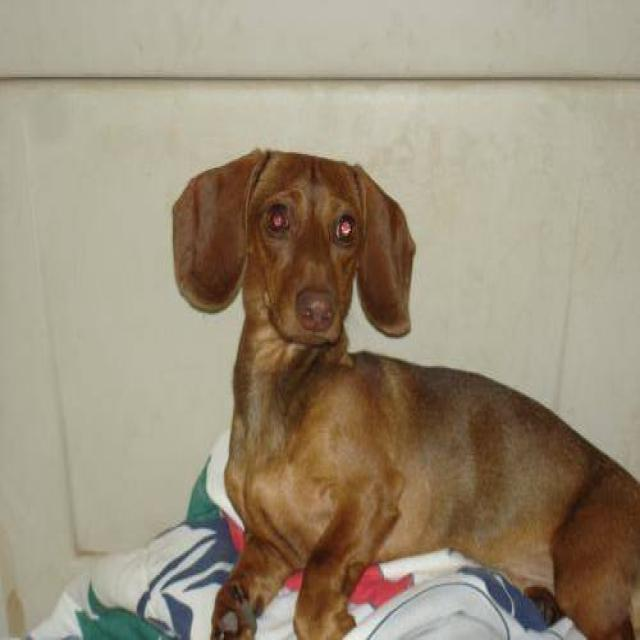dogs: (167, 152, 640, 639)
